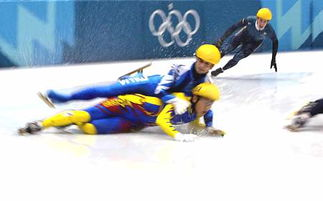fall: (35, 36, 221, 104)
